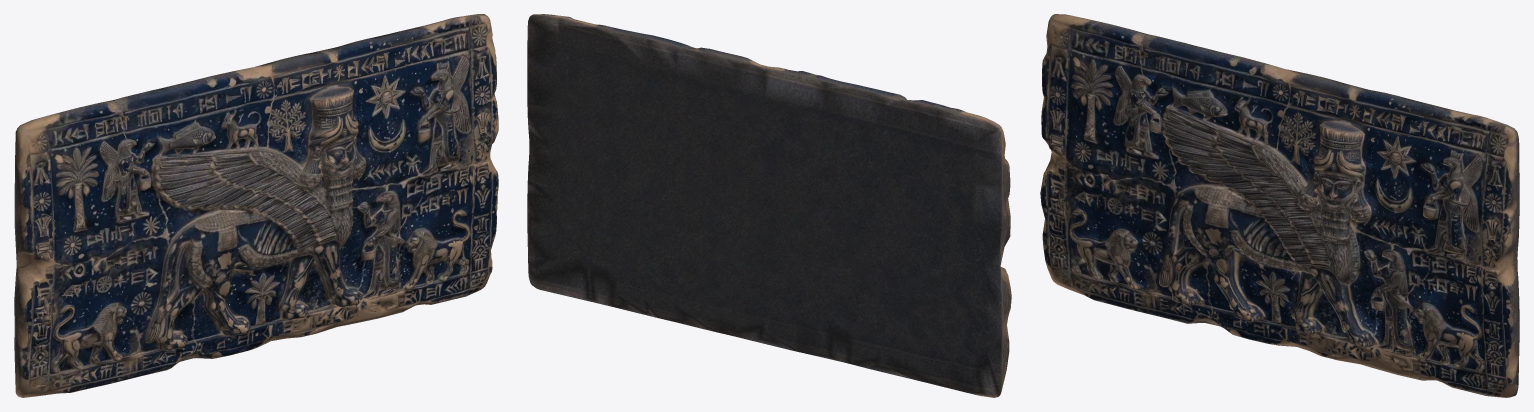
File: babylon_lamassu_relief.glb
The picture shows the model from 3 angles, left to right: view 1: azimuth 30°, elevation 25°; view 2: azimuth 150°, elevation 25°; view 3: azimuth 330°, elevation 25°; orthographic projection.
Parts seen in each view (by area): view 1: mesh_node; view 2: mesh_node; view 3: mesh_node.
Part boxes in pixels (box(x1,y1,x2,y2)): mesh_node: box(14, 14, 498, 397); mesh_node: box(527, 14, 1011, 397); mesh_node: box(1040, 14, 1519, 397).
Bounding box in the file's own units: 1.9 × 1.07 × 0.1624.
Materials: 1 (1 with a texture image).
